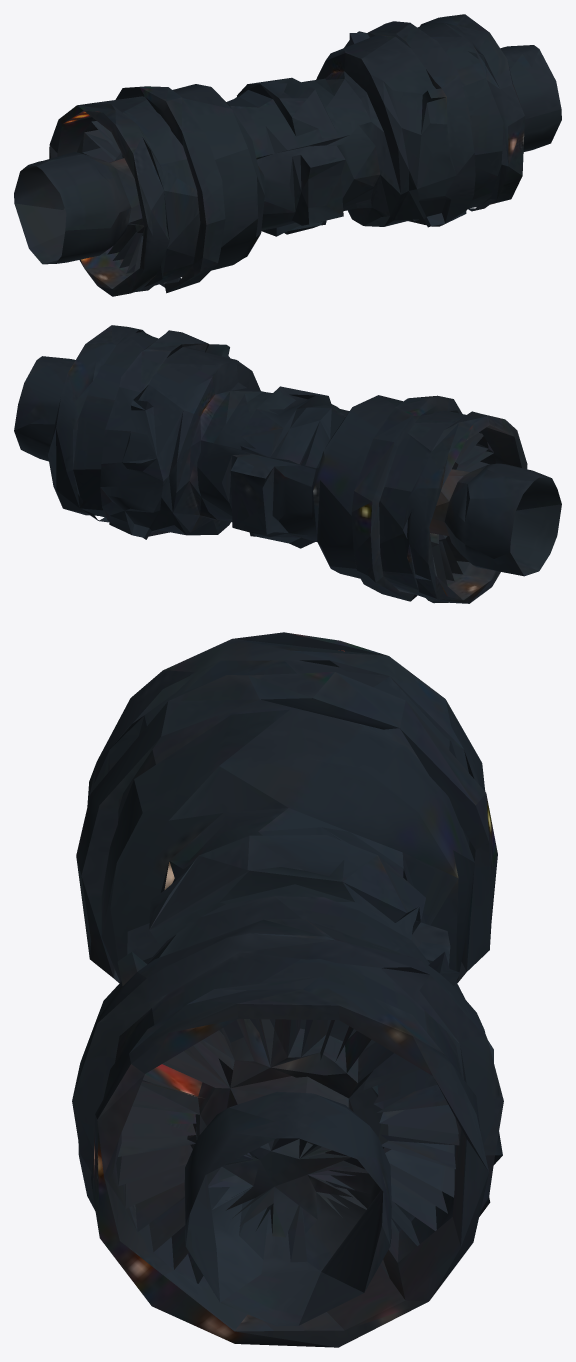
The model's file is engine.glb.
3 renders of one model, top to bottom at view 1: azimuth 30°, elevation 25°; view 2: azimuth 150°, elevation 25°; view 3: azimuth 270°, elevation 25°, orthographic. The views are drawn at different scales.
Size of the model in its own units: 1.9 by 0.6831 by 0.7149.
Materials: 1 (1 with a texture image).
